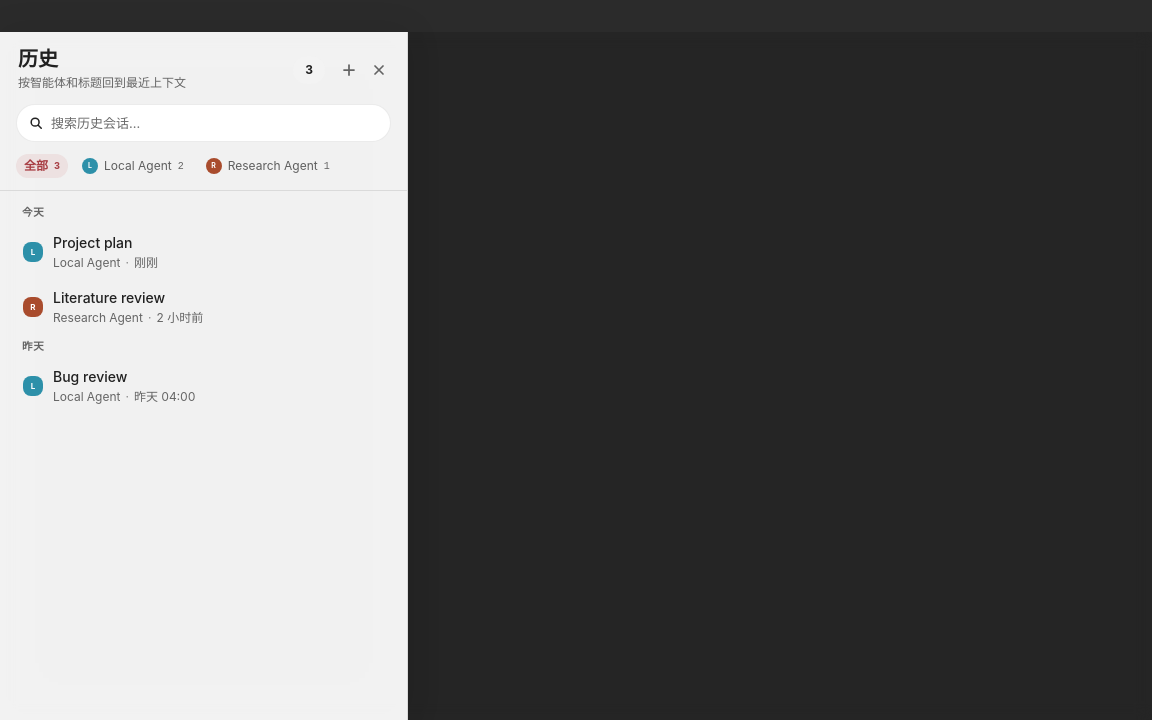
HistoryDrawer — agent filter chips › clicking an agent chip pins the list to that agent's conversations
expect the text "Project plan" is shown: met, box top-left (53, 234), bottom-right (132, 251)
expect the text "Literature review" is shown: met, box top-left (53, 289), bottom-right (165, 306)
What coordinates should you click on to do the following:
click the button "R Research Agent 1"
I would click on:
 (268, 166)
Its box is top-left (198, 154), bottom-right (338, 178).
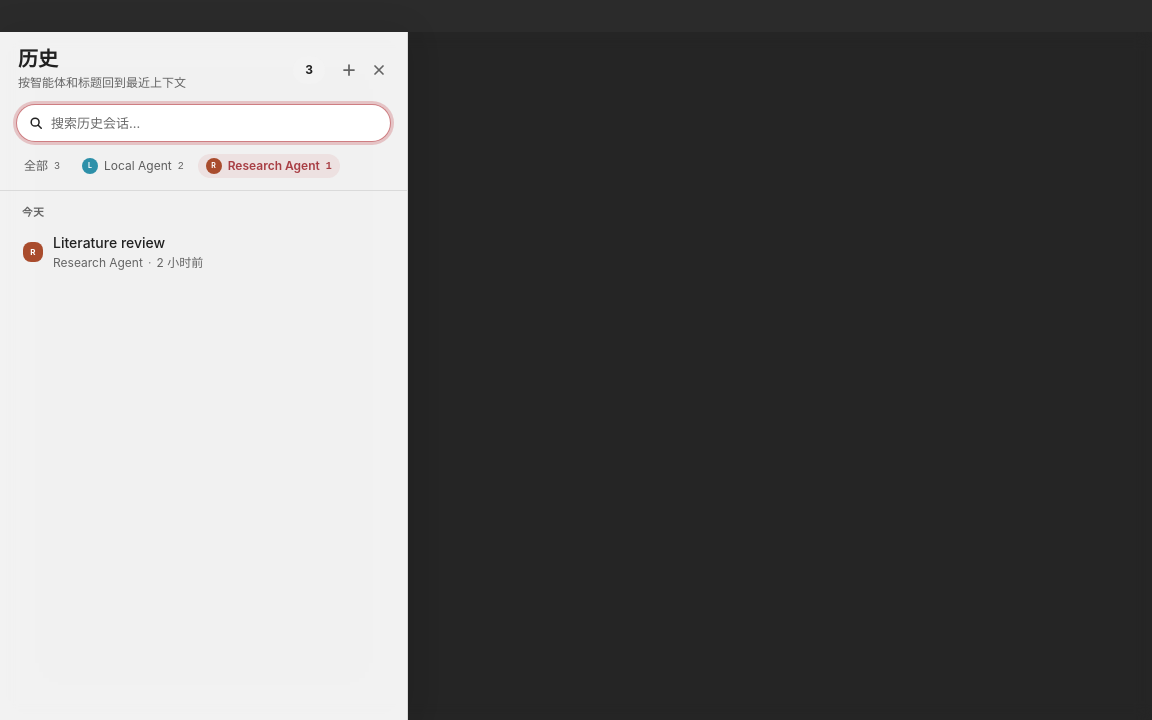
expect the text "Literature review" is shown: met, box top-left (53, 234), bottom-right (165, 251)
expect the button "Project plan" is gone: met
expect the button "Bug review" is gone: met
